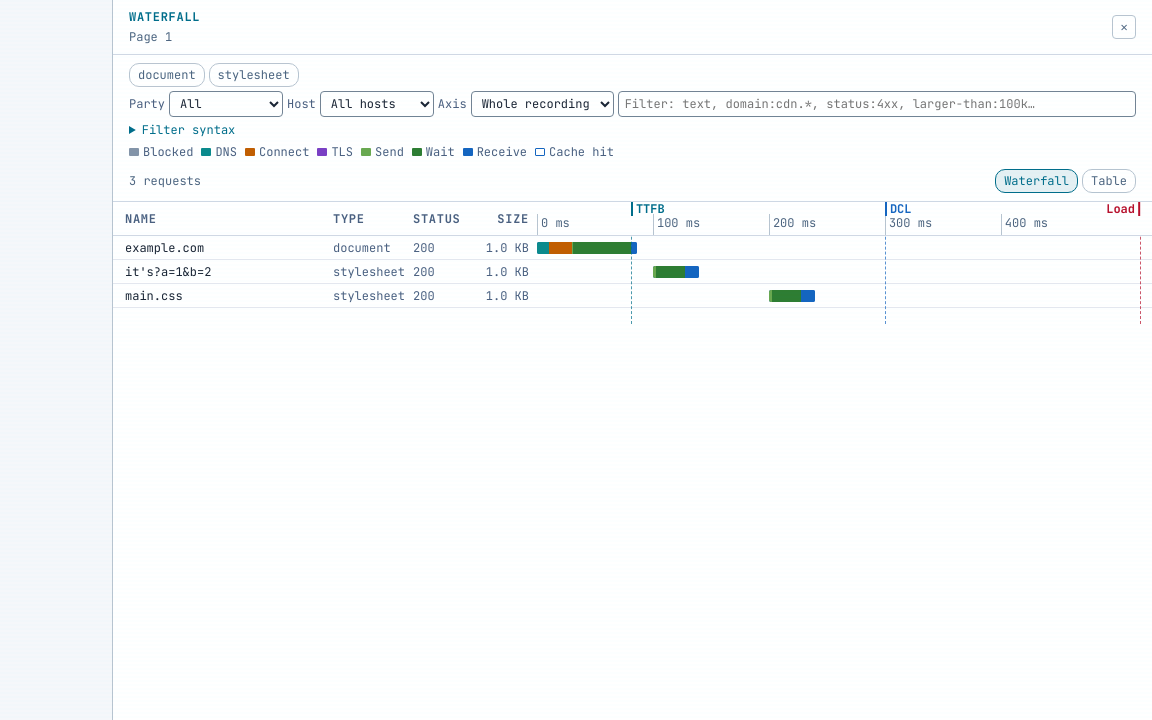
WaterfallPanel: copying a request › clears the message when another row is selected
What coordinates should you click on to do the following:
click the button "it's?a=1&b=2 stylesheet 200 1.0 KB"
I would click on:
 (168, 272)
Its box is 113,260 -> 1151,284.
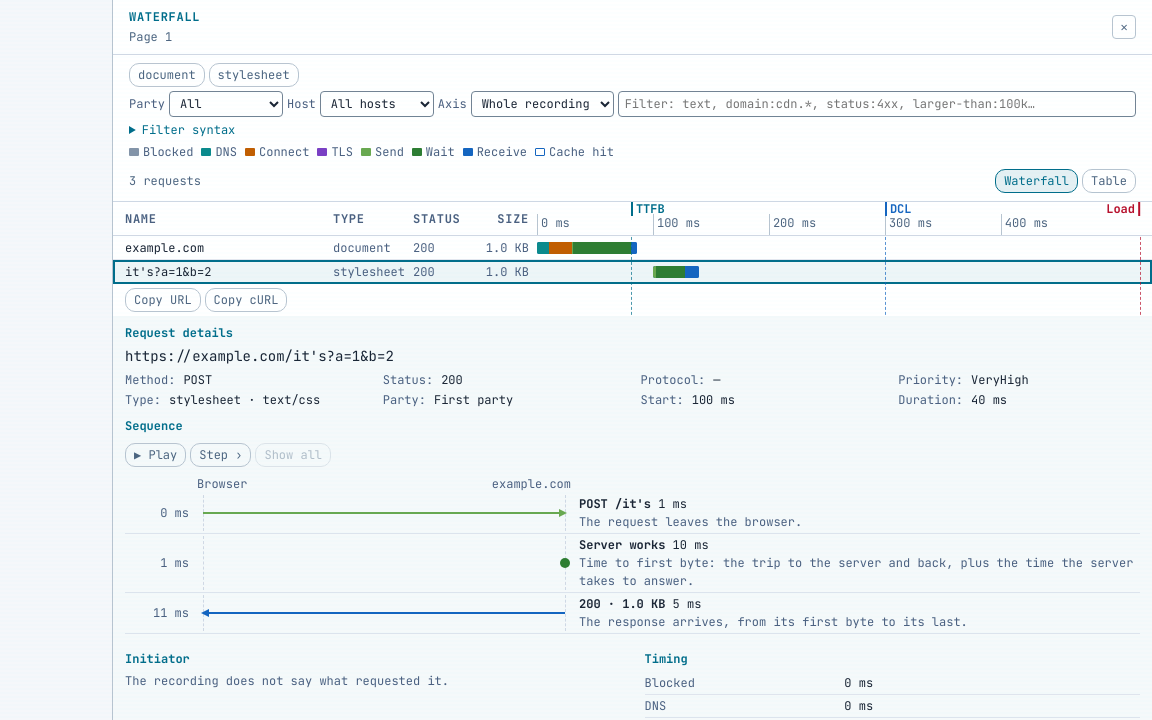
What coordinates should you click on to do the following:
click the button "Copy URL"
I would click on:
 (163, 300)
Its box is 125,288 -> 201,312.
(page scrolled)
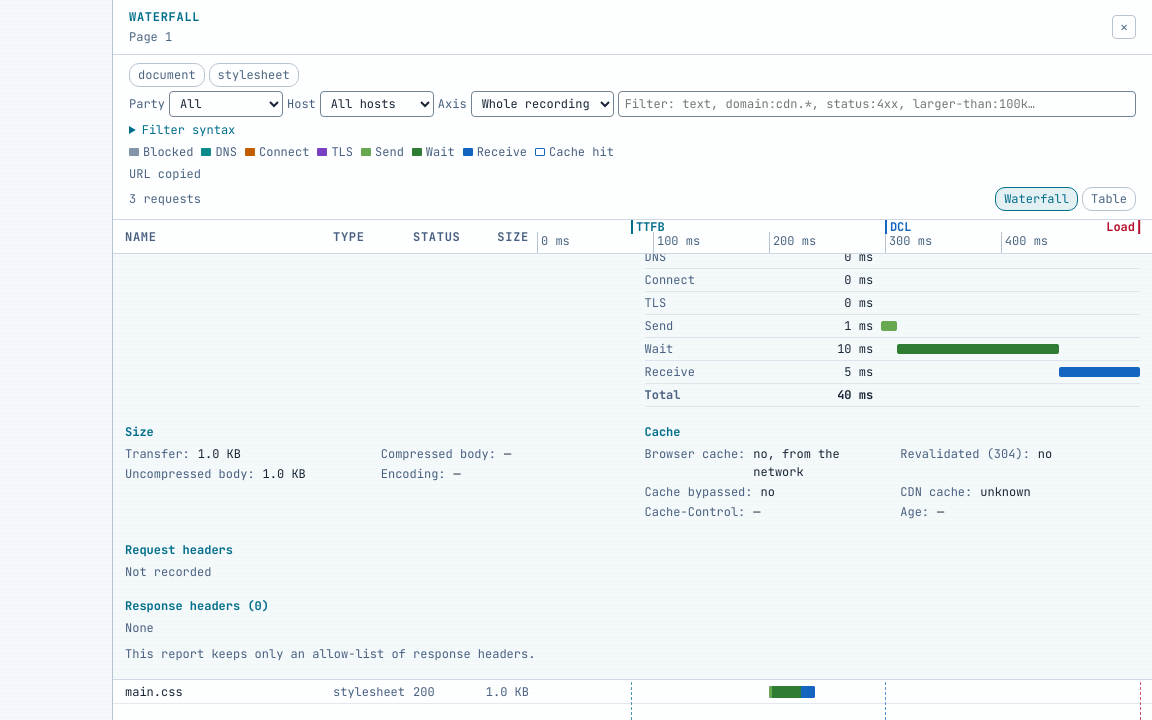
Expected: the text "URL copied" is shown, 129,166 -> 201,182
What coordinates should you click on to do the following:
click the button "main.css stylesheet 200 1.0 KB"
I would click on:
 (154, 692)
Its box is 113,680 -> 1151,704.
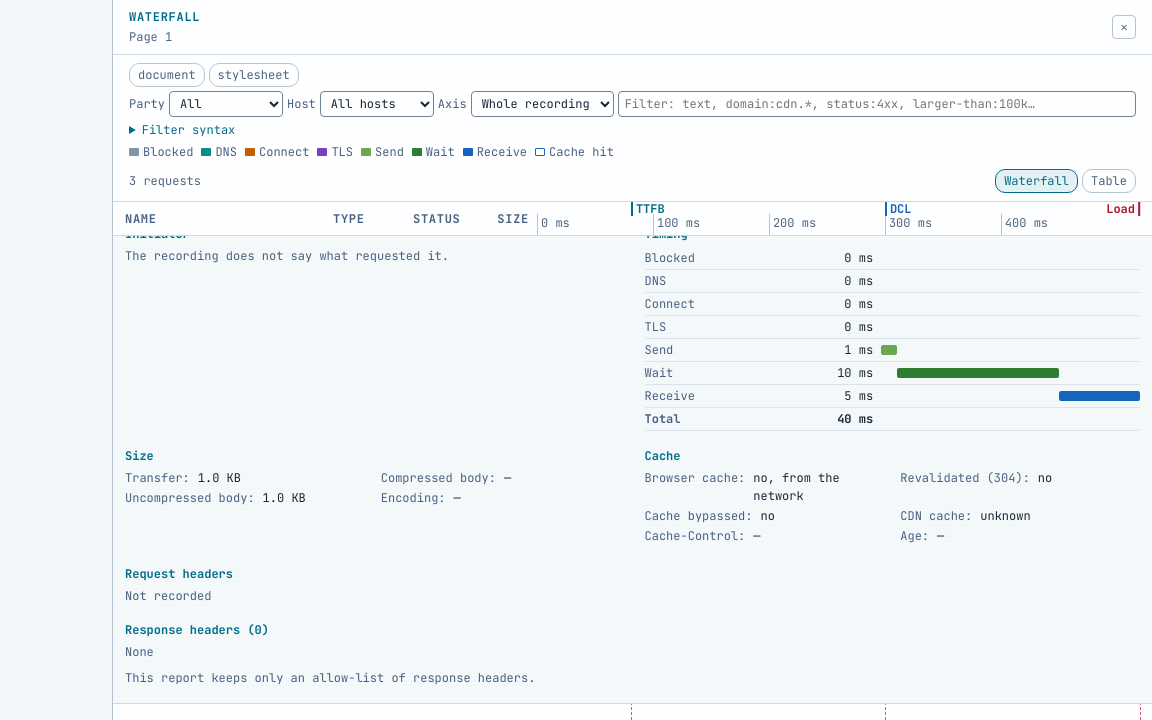
Expected: the text "URL copied" is gone
